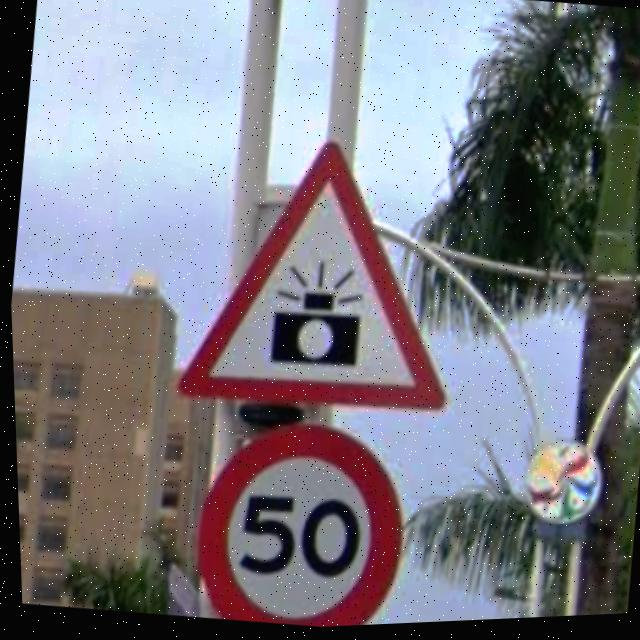speedcamera: (172, 144, 441, 415)
